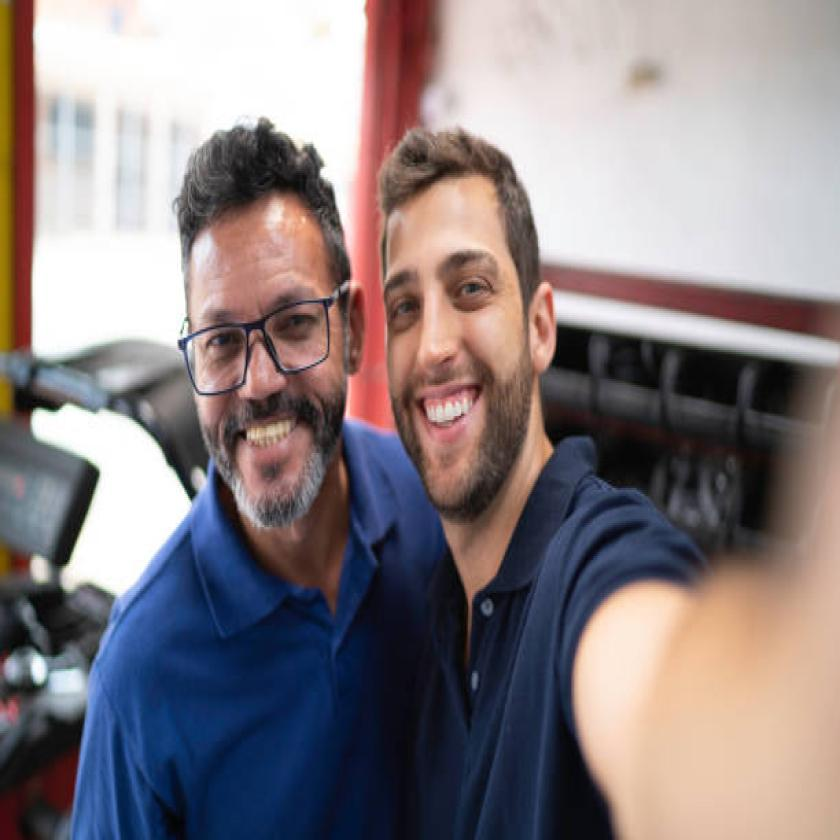Sin_casco: (139, 83, 377, 560), (383, 97, 569, 532)
